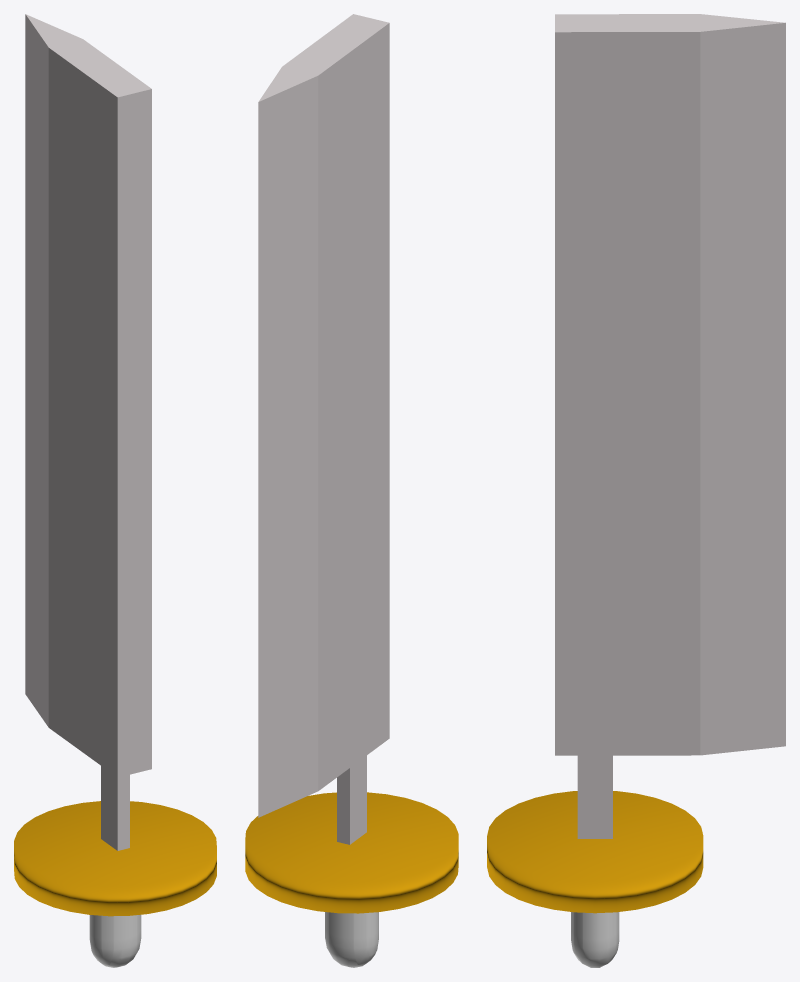
Rendered from hachet.gltf.
The picture shows the model from 3 angles, left to right: view 1: azimuth 30°, elevation 25°; view 2: azimuth 150°, elevation 25°; view 3: azimuth 270°, elevation 25°; orthographic projection. The views are drawn at different scales.
Visible parts, largest first — view 1: blade_hachet, rguard_circle, grip_capsule; view 2: blade_hachet, rguard_circle, grip_capsule; view 3: blade_hachet, rguard_circle, grip_capsule.
Boxes of the visible parts, bbox=[...] form: blade_hachet: bbox=[25, 14, 151, 850]; rguard_circle: bbox=[14, 801, 216, 916]; grip_capsule: bbox=[89, 914, 141, 967]; blade_hachet: bbox=[258, 14, 389, 844]; rguard_circle: bbox=[245, 792, 458, 913]; grip_capsule: bbox=[325, 912, 378, 967]; blade_hachet: bbox=[555, 14, 785, 838]; rguard_circle: bbox=[487, 791, 703, 913]; grip_capsule: bbox=[571, 912, 619, 967].
Size of the model in its own units: 0.1388 by 0.6677 by 0.1918.
